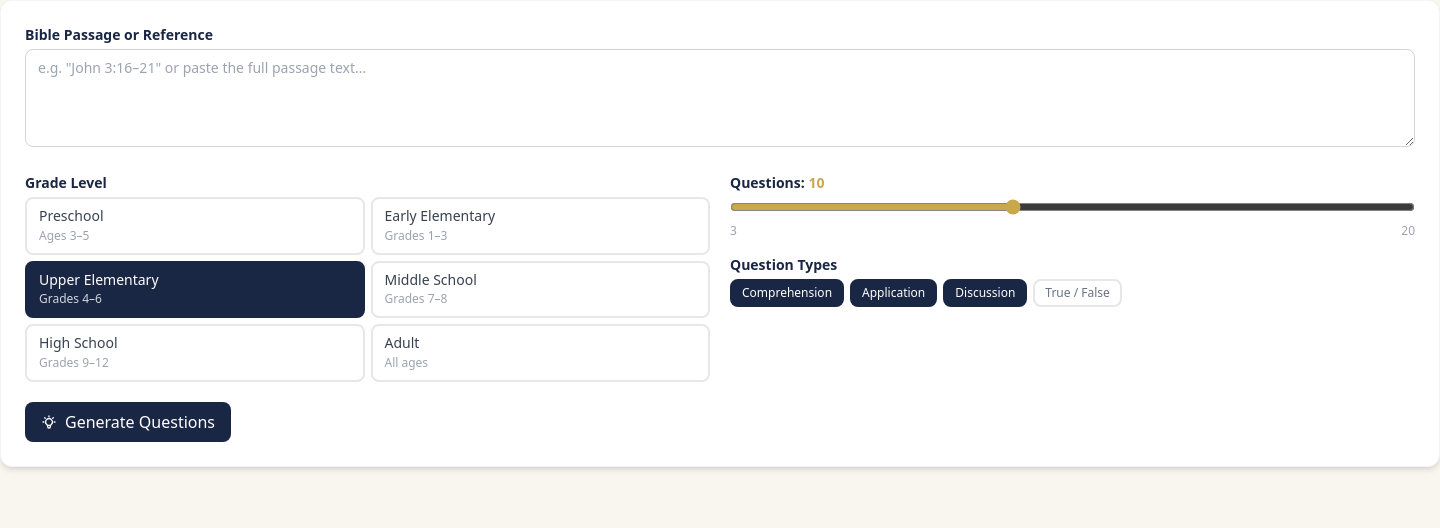
Test: QuestionGenerator › refuses to generate with no passage entered
The width and height of the screenshot is (1440, 528).
Click the button "Generate Questions". click: point(128, 422)
box: x1=25 y1=402 x2=231 y2=442
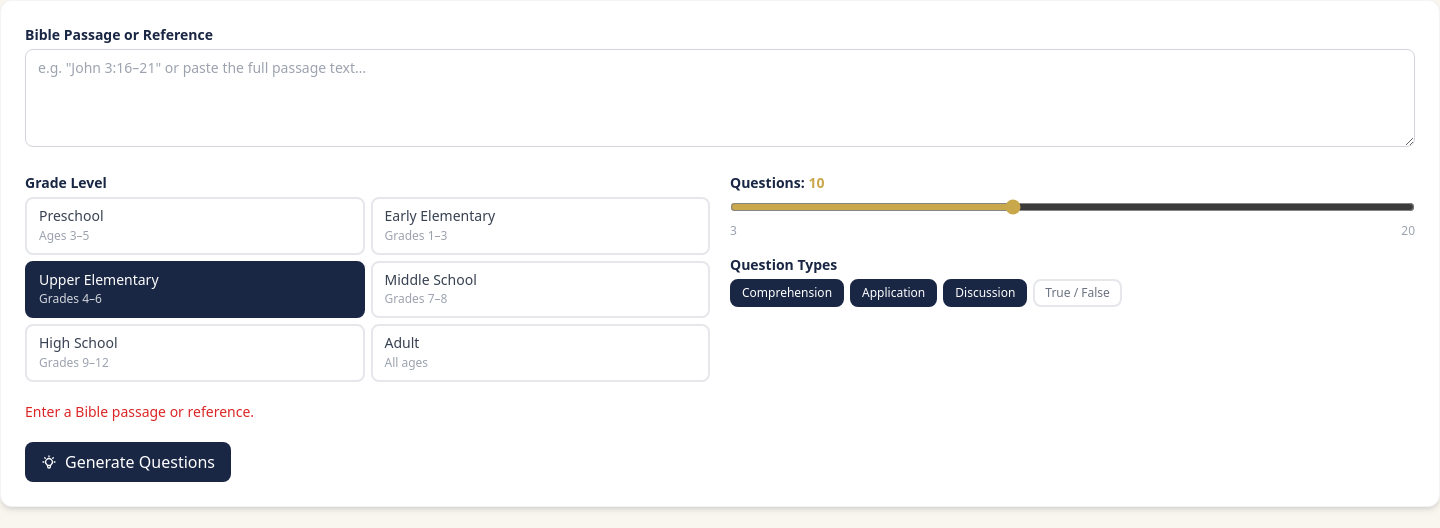
Result: the text "Enter a Bible passage or reference." is shown at x1=25 y1=402 x2=254 y2=420
